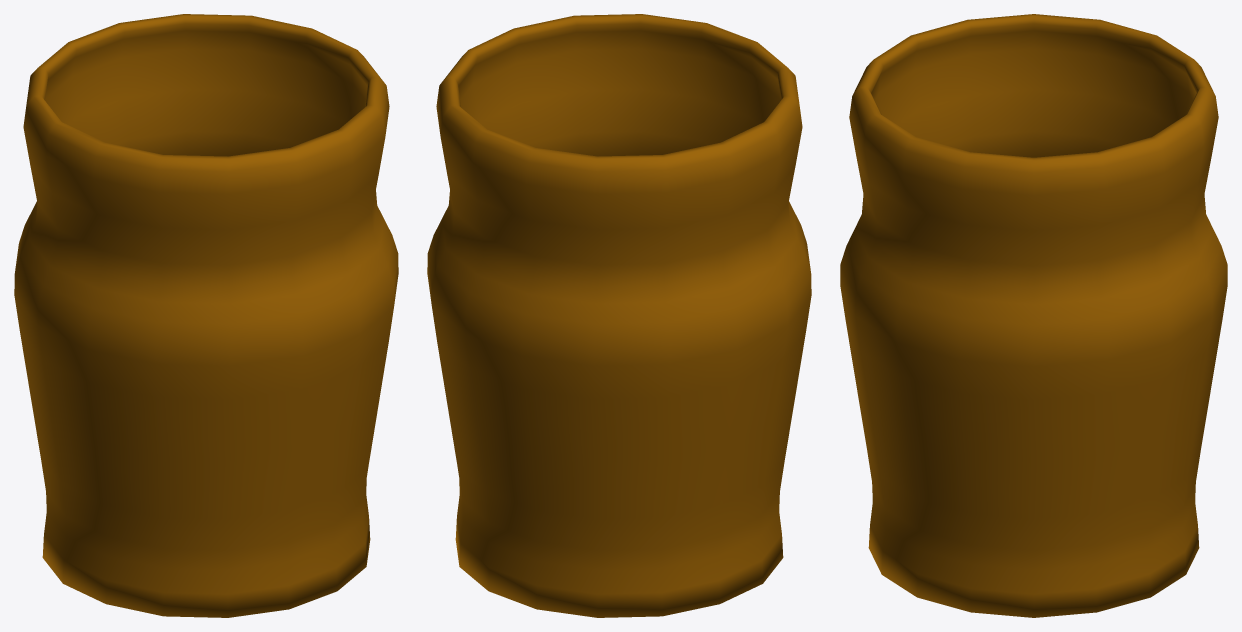
File: PotteryLowPoly.fbx
3 views of the same model, side by side, from view 1: azimuth 30°, elevation 25°; view 2: azimuth 150°, elevation 25°; view 3: azimuth 270°, elevation 25° (orthographic).
Parts seen in each view (by area): view 1: Circle; view 2: Circle; view 3: Circle.
Boxes of the visible parts, x1,y1,x2,y2 form: Circle: (14, 14, 398, 617); Circle: (427, 14, 811, 617); Circle: (840, 14, 1227, 617).
Size of the model in its own units: 0.096 by 0.1259 by 0.096.
